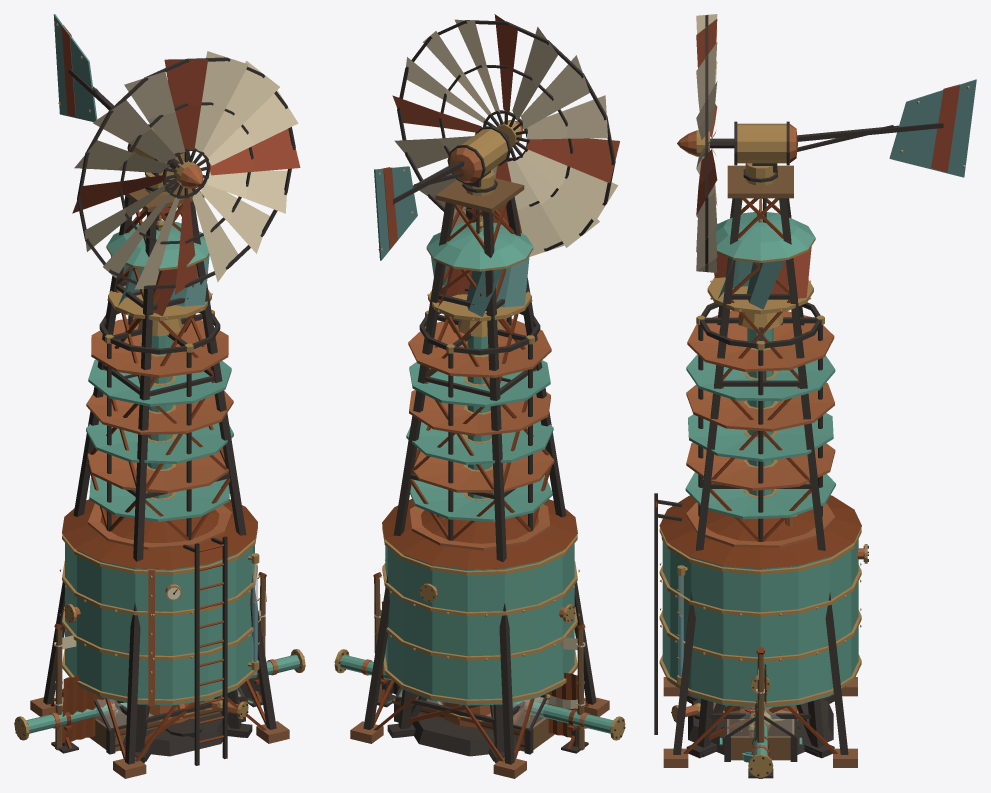
Rendered from exterior.glb.
The picture shows the model from 3 angles, left to right: view 1: azimuth 30°, elevation 25°; view 2: azimuth 150°, elevation 25°; view 3: azimuth 270°, elevation 25°; orthographic projection. The views are drawn at different scales.
Parts seen in each view (by area): view 1: tank, windpump_rotor, condenser, windpump, condenser_rotor, fence, pipe_run, solar_still; view 2: tank, condenser, windpump, windpump_rotor, condenser_rotor, pipe_run, fence, solar_still; view 3: tank, condenser, windpump, condenser_rotor, windpump_rotor, solar_still, pipe_run, fence.
Boxes of the visible parts, <box> form: tank: <box>59,499,260,765</box>; windpump_rotor: <box>72,51,300,294</box>; condenser: <box>86,310,252,763</box>; windpump: <box>30,14,289,778</box>; condenser_rotor: <box>106,208,212,320</box>; fence: <box>54,572,266,750</box>; pipe_run: <box>14,649,305,753</box>; solar_still: <box>89,687,252,754</box>; tank: <box>380,474,579,761</box>; condenser: <box>387,310,554,763</box>; windpump: <box>350,126,609,778</box>; windpump_rotor: <box>392,14,619,256</box>; condenser_rotor: <box>426,208,533,321</box>; pipe_run: <box>334,649,625,753</box>; fence: <box>373,572,585,750</box>; solar_still: <box>387,687,554,754</box>; tank: <box>654,493,868,757</box>; condenser: <box>685,302,835,762</box>; windpump: <box>663,79,976,767</box>; condenser_rotor: <box>707,198,815,314</box>; windpump_rotor: <box>677,14,717,272</box>; solar_still: <box>719,707,802,761</box>; pipe_run: <box>748,708,773,778</box>; fence: <box>754,647,767,778</box>.
Size of the model in its own units: 4 by 9.34 by 3.88.
